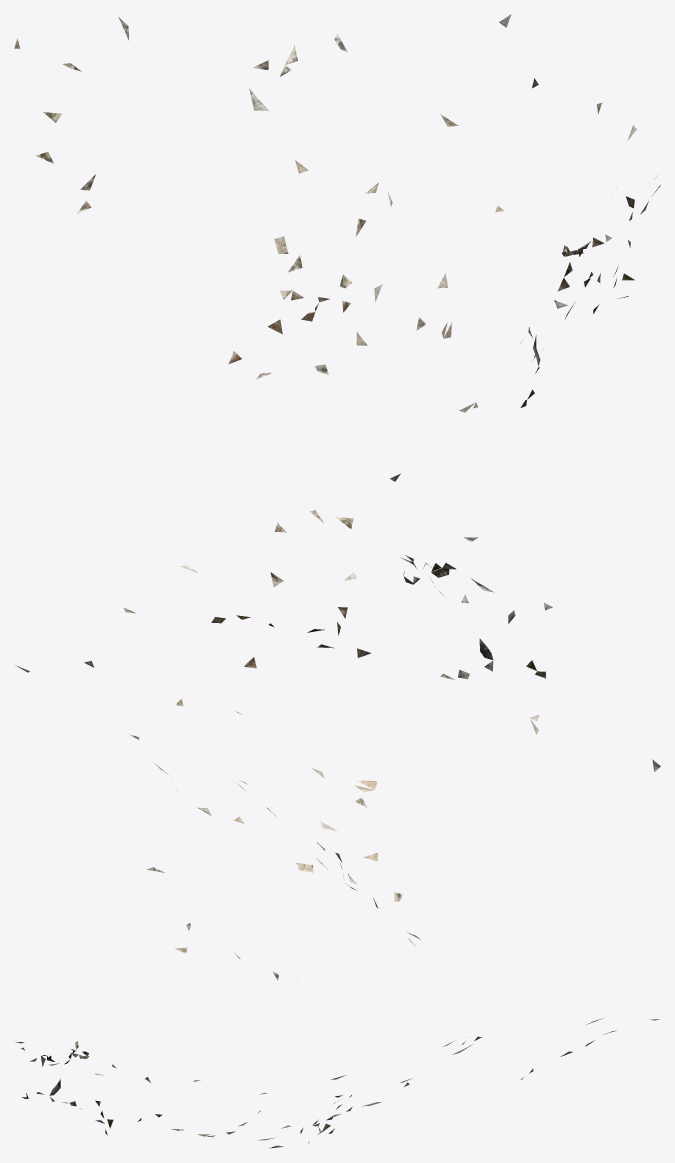
3 views of the same model, one above another, from view 1: azimuth 30°, elevation 25°; view 2: azimuth 150°, elevation 25°; view 3: azimuth 270°, elevation 25° (orthographic). The views are drawn at different scales.
Size of the model in its own units: 3.01 by 1.88 by 6.19.
1 material, 1 textured.
